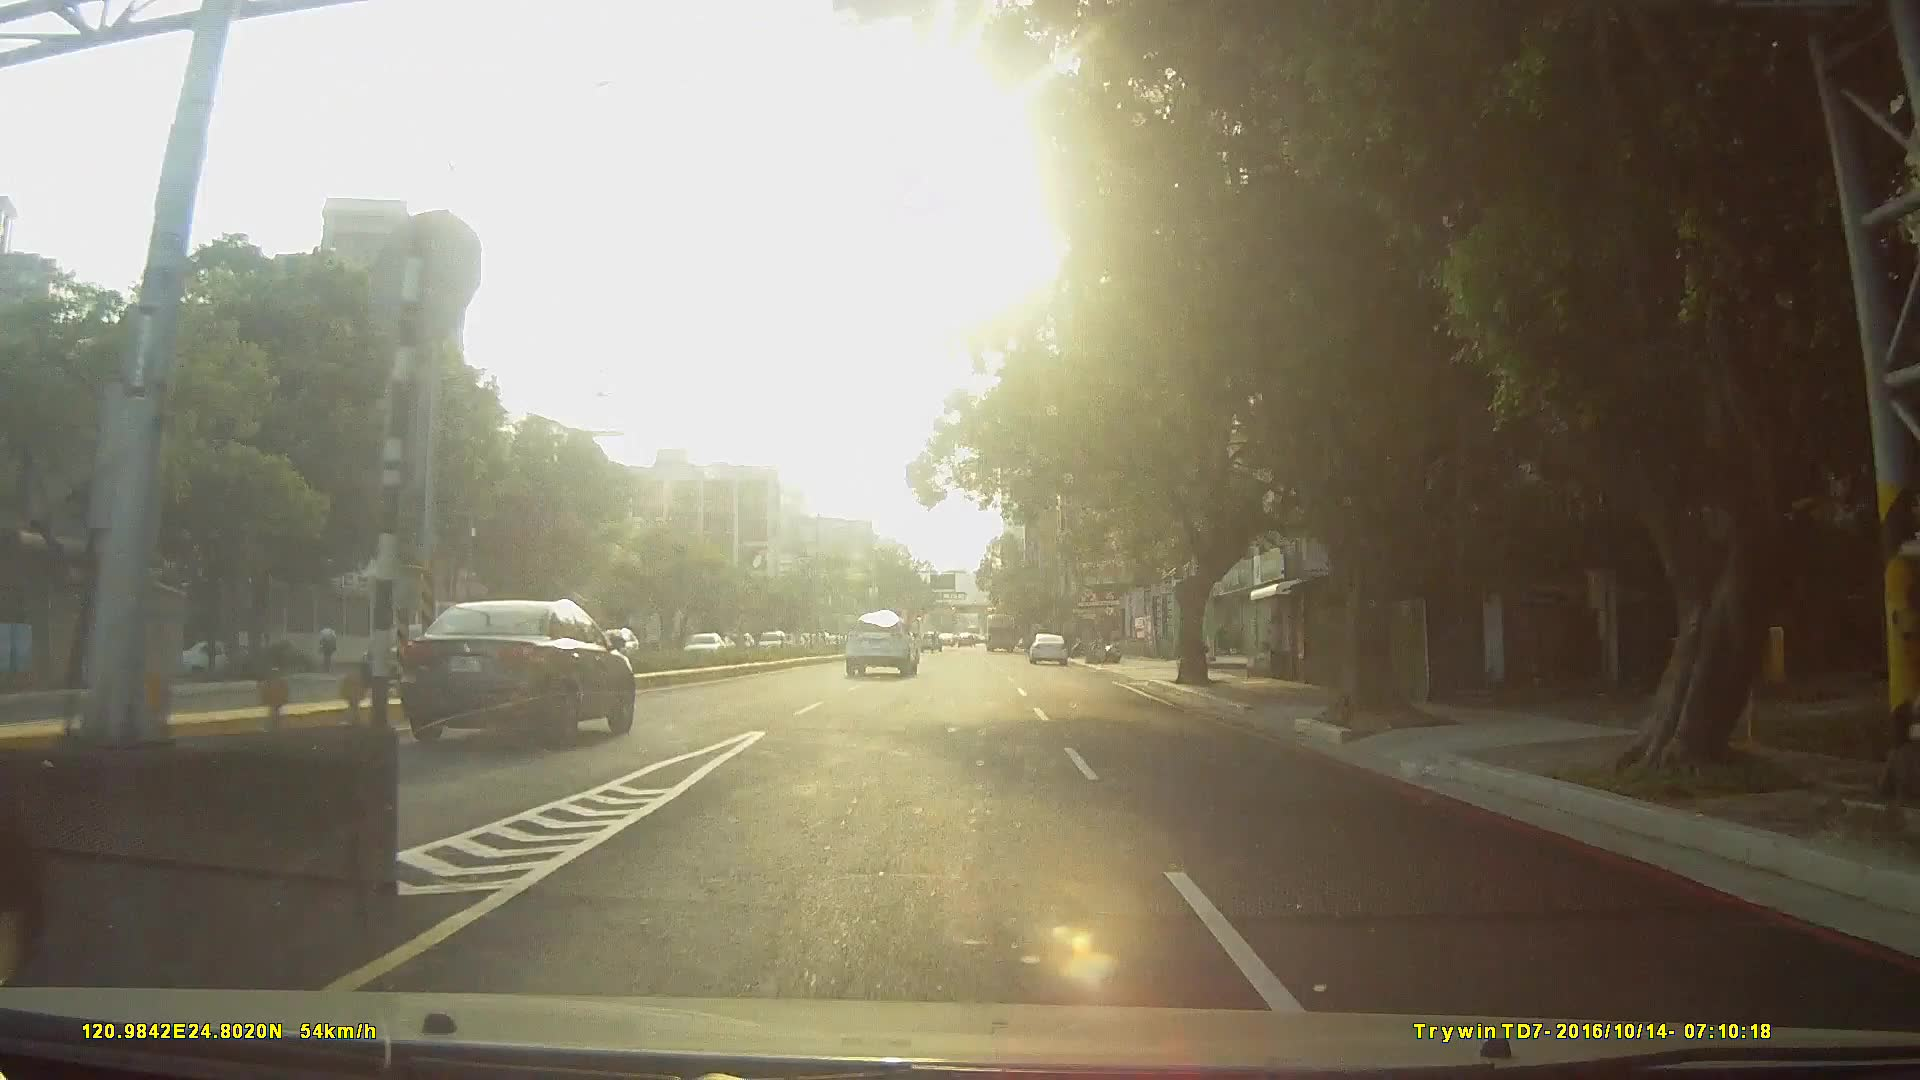pedestrian: (316, 623, 342, 677)
vehicle: (401, 592, 638, 740), (841, 606, 919, 673), (1026, 628, 1068, 665), (982, 608, 1017, 651)
